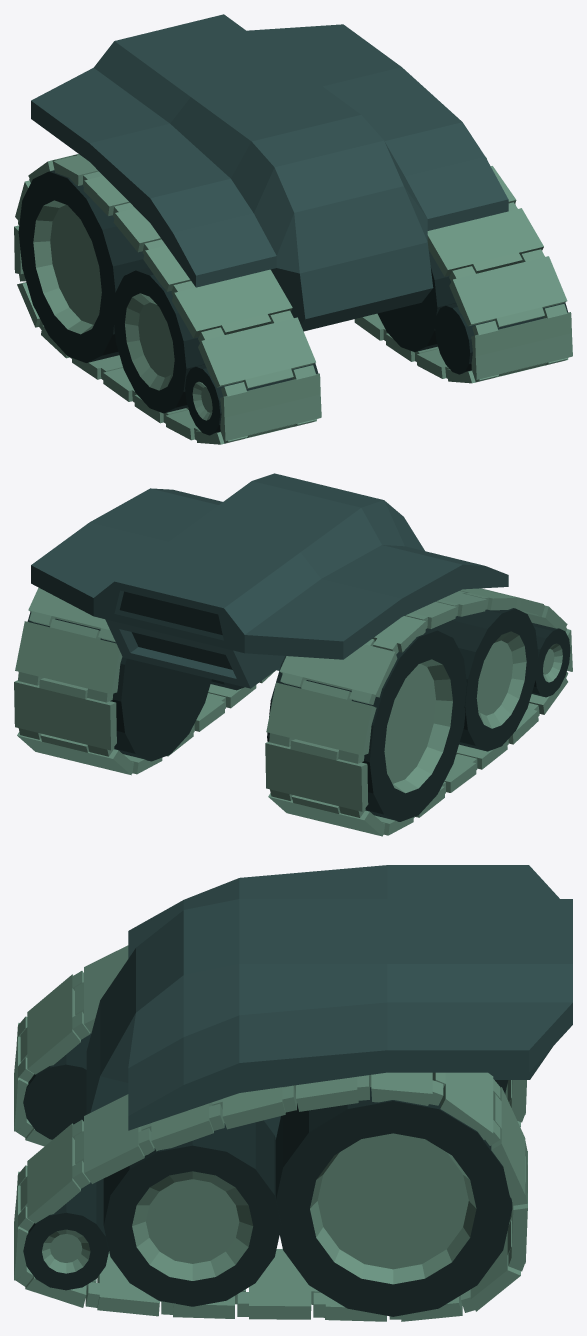
File: ENCuerpo.obj
3 renders of one model, top to bottom at view 1: azimuth 30°, elevation 25°; view 2: azimuth 150°, elevation 25°; view 3: azimuth 270°, elevation 25°, orthographic. The views are drawn at different scales.
Parts seen in each view (by area): view 1: tank_base1, tank_track1, Cylinder, Cylinder.001, Cylinder.002; view 2: tank_base1, tank_track1, Cylinder, Cylinder.001, Cylinder.002; view 3: tank_base1, tank_track1, Cylinder, Cylinder.001, Cylinder.002.
Boxes of the visible parts, left/top/right/bottom form: tank_base1: left=31, top=14, right=508, bottom=331; tank_track1: left=14, top=154, right=572, bottom=444; Cylinder: left=18, top=170, right=148, bottom=362; Cylinder.001: left=113, top=204, right=515, bottom=413; Cylinder.002: left=185, top=302, right=568, bottom=435; tank_base1: left=31, top=473, right=508, bottom=688; tank_track1: left=14, top=587, right=572, bottom=836; Cylinder: left=27, top=612, right=466, bottom=821; Cylinder.001: left=210, top=608, right=538, bottom=751; Cylinder.002: left=531, top=623, right=570, bottom=697; tank_base1: left=86, top=865, right=572, bottom=1139; tank_track1: left=14, top=945, right=527, bottom=1321; Cylinder: left=276, top=1080, right=512, bottom=1316; Cylinder.001: left=103, top=1120, right=281, bottom=1306; Cylinder.002: left=23, top=1033, right=108, bottom=1290.
Size of the model in its own units: 6.68 by 4.29 by 7.57.
